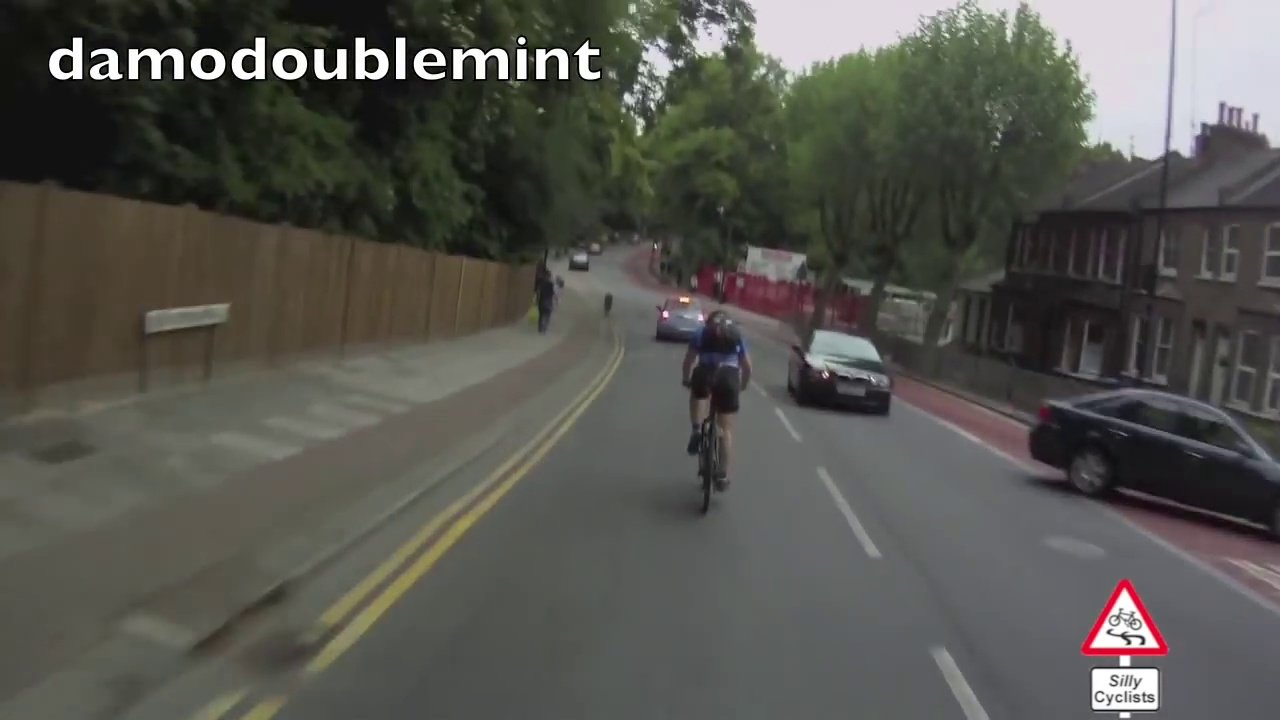cyclist_back: (684, 302, 751, 526)
